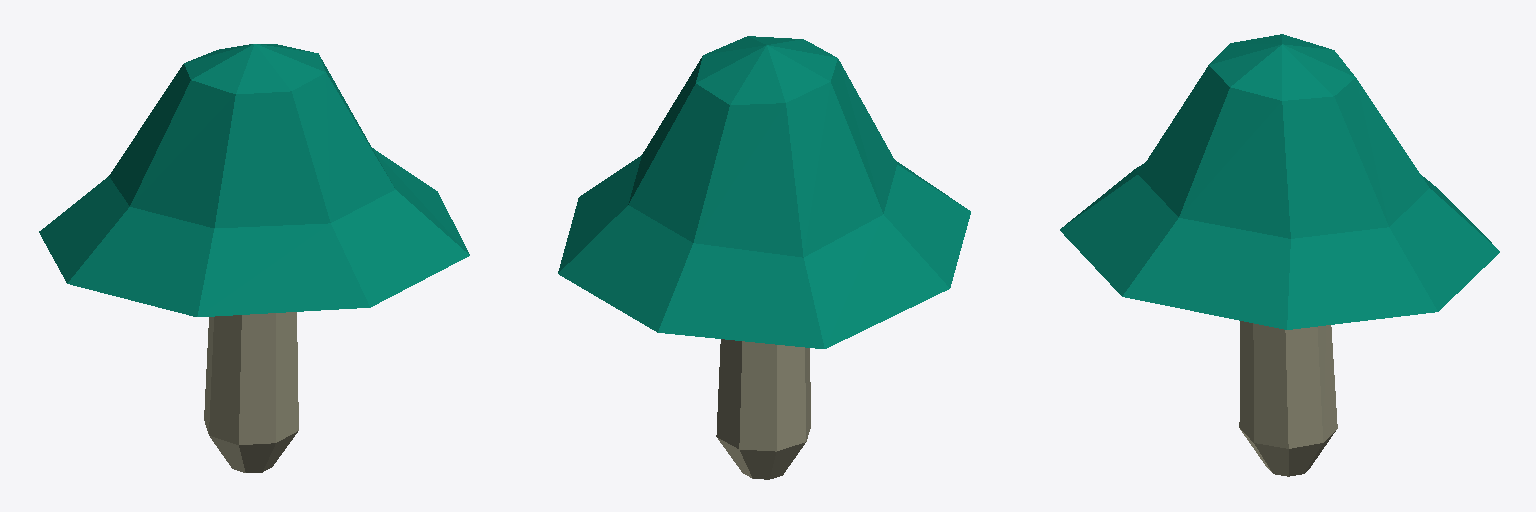
The model's file is blue_mushroom.obj.
3 renders of one model, left to right at view 1: azimuth 30°, elevation 25°; view 2: azimuth 150°, elevation 25°; view 3: azimuth 270°, elevation 25°, orthographic.
Visible parts, largest first — view 1: blue_mushroom; view 2: blue_mushroom; view 3: blue_mushroom.
Boxes of the visible parts, box(x1,y1,x2,y2) form: blue_mushroom: box(39, 44, 469, 472); blue_mushroom: box(558, 36, 970, 479); blue_mushroom: box(1060, 34, 1499, 476).
Bounding box in the file's own units: 2 × 2.18 × 2.06.